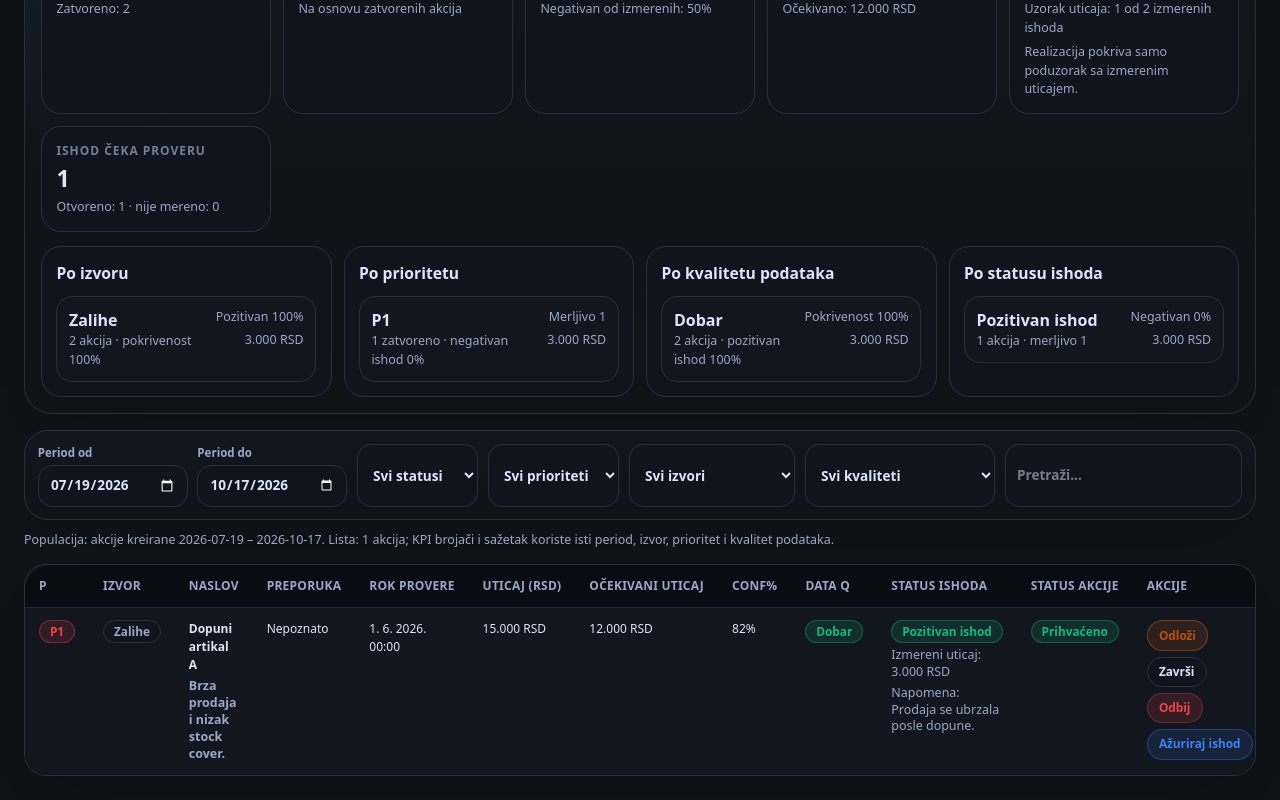
it: AnalyticsActionsPage › keeps the newest summary results when filter changes overlap
(page scrolled)
Expected: the text "Dopuni artikal A" is shown, [189,620,232,673]
Select "Dobavljači" in the dropdown named "Filter po izvoru": coordinates (712, 475) [629,444,795,507]
(page scrolled)
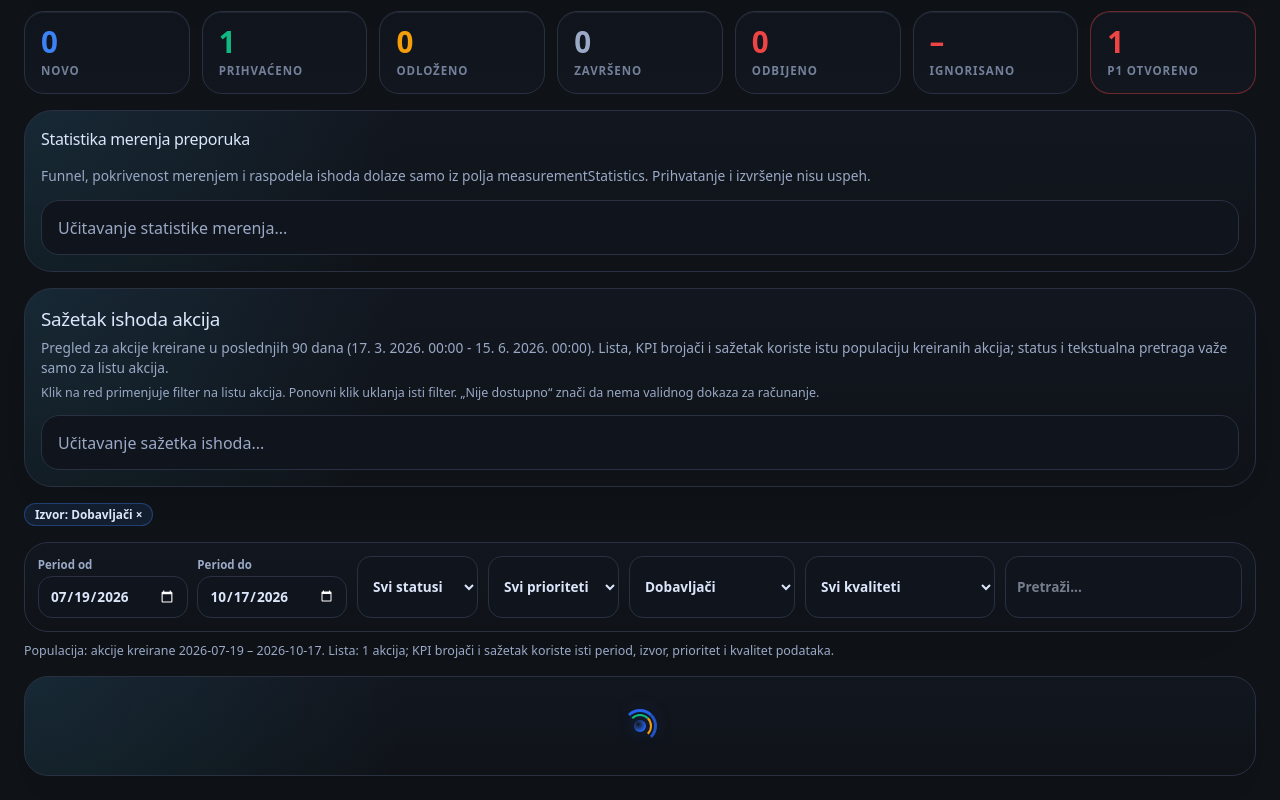
Select "P2" in the dropdown named "Filter po prioritetu": coordinates (554, 587) [488,556,619,618]
(page scrolled)
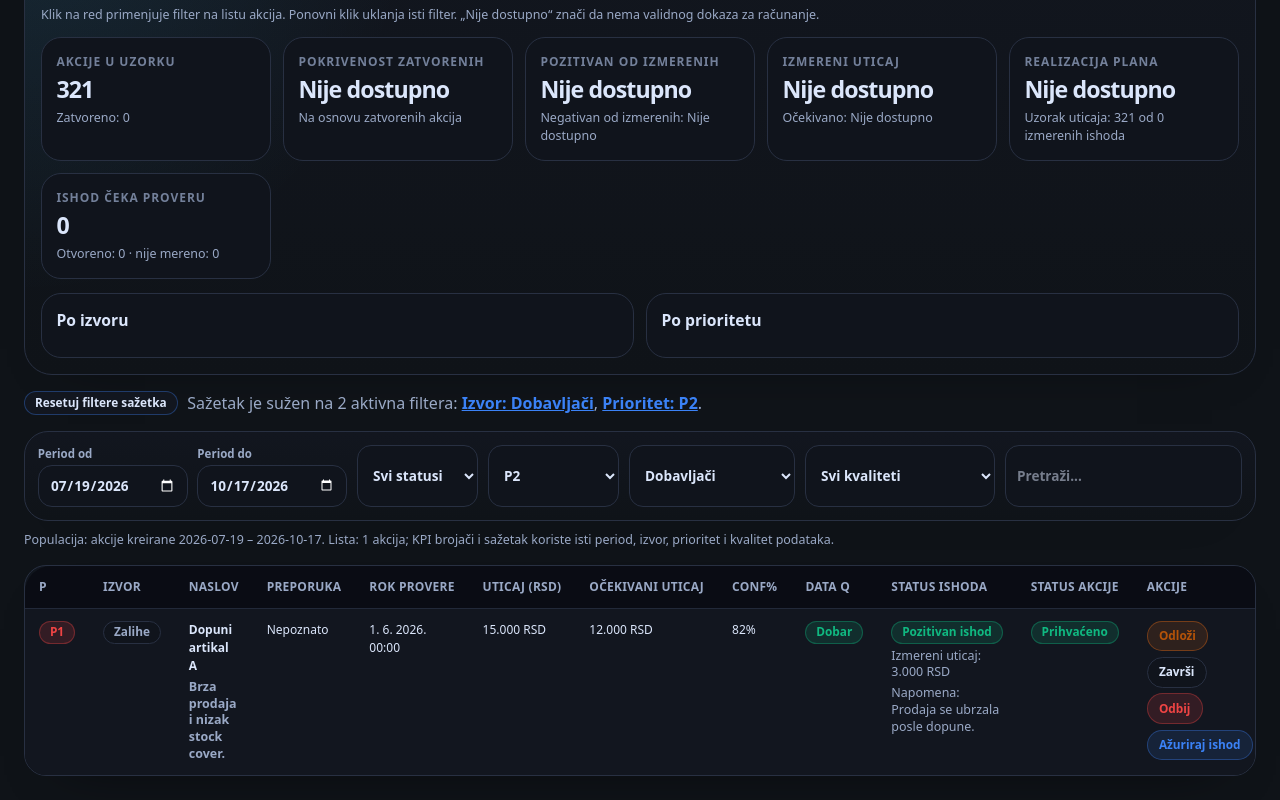
Expected: the text "Akcije u uzorku" is shown, [56,53,176,70]
Expected: the text "321" is shown, [56,73,93,105]
